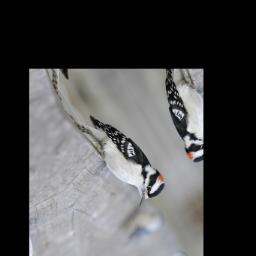Woodpecker: (68, 82, 176, 222)
